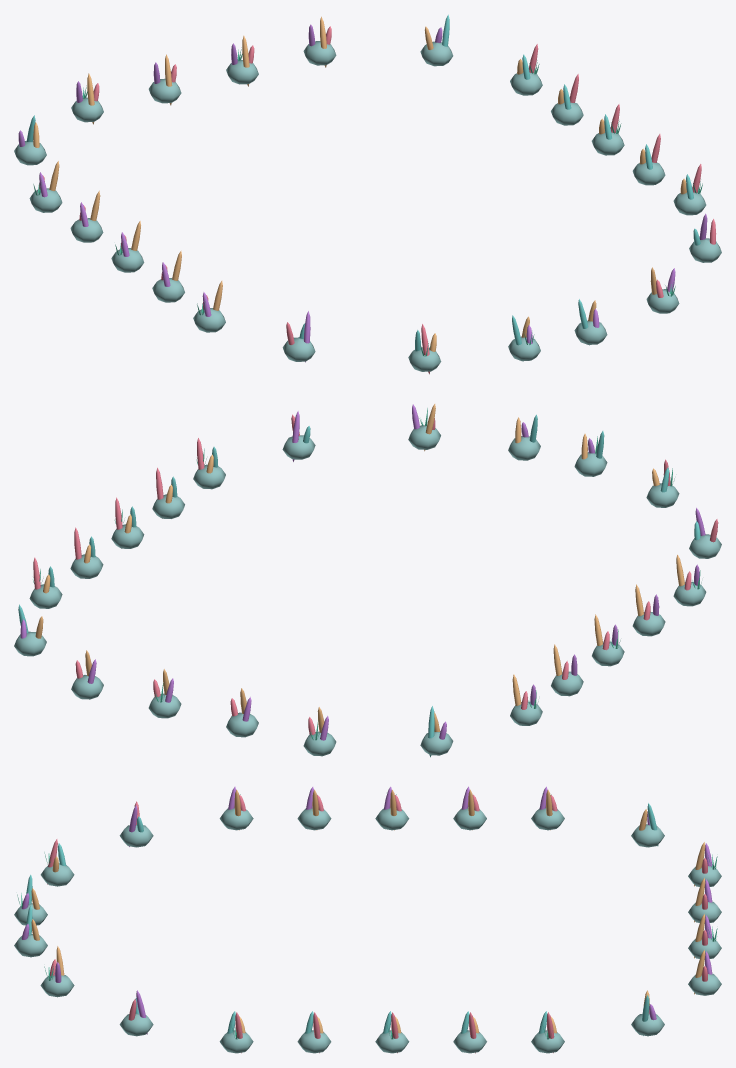
Rendered from reef-04-CBpOaGrO.glb.
3 views of the same model, one above another, from view 1: azimuth 30°, elevation 25°; view 2: azimuth 150°, elevation 25°; view 3: azimuth 270°, elevation 25° (orthographic). The views are drawn at different scales.
Visible parts, largest first — view 1: ReefRock, Coral2, Coral1, Coral0, Coral3; view 2: ReefRock, Coral2, Coral0, Coral1, Coral3; view 3: ReefRock, Coral2, Coral0, Coral1, Coral3.
Part boxes in pixels (bbox=[...]): ReefRock: bbox=[14, 41, 721, 371]; Coral2: bbox=[33, 16, 686, 351]; Coral1: bbox=[18, 24, 707, 362]; Coral0: bbox=[39, 26, 716, 374]; Coral3: bbox=[26, 14, 700, 361]; ReefRock: bbox=[14, 425, 721, 756]; Coral2: bbox=[35, 404, 684, 732]; Coral0: bbox=[33, 414, 718, 735]; Coral1: bbox=[20, 404, 705, 740]; Coral3: bbox=[18, 414, 700, 757]; ReefRock: bbox=[14, 807, 721, 1053]; Coral2: bbox=[31, 789, 705, 1033]; Coral0: bbox=[47, 794, 707, 1053]; Coral1: bbox=[21, 786, 712, 1034]; Coral3: bbox=[26, 803, 658, 1035].
Size of the model in its own units: 23 by 2.06 by 29.1.
